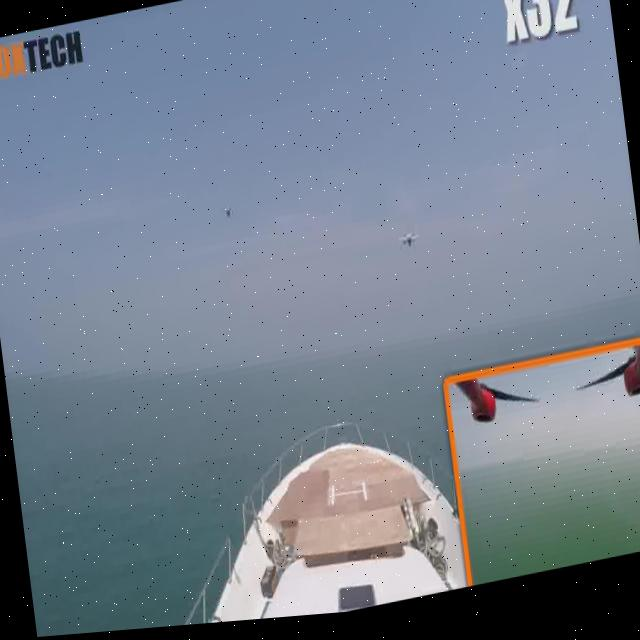drone: (390, 221, 428, 270), (215, 195, 238, 235)
